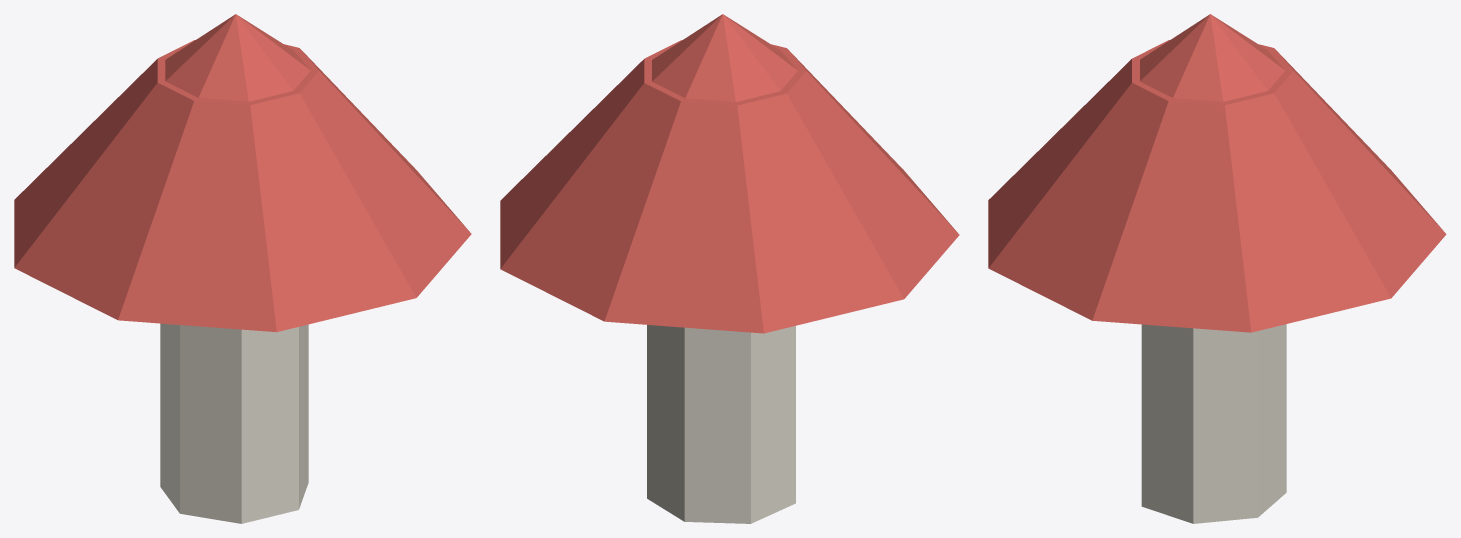
File: hongo.glb
The picture shows the model from 3 angles, left to right: view 1: azimuth 30°, elevation 25°; view 2: azimuth 150°, elevation 25°; view 3: azimuth 270°, elevation 25°; orthographic projection.
Visible parts, largest first — view 1: hongo; view 2: hongo; view 3: hongo.
Boxes of the visible parts, <box> form: hongo: <box>14,14,471,523</box>; hongo: <box>500,14,959,523</box>; hongo: <box>988,14,1446,523</box>.
Size of the model in its own units: 0.3348 by 0.38 by 0.3297.
